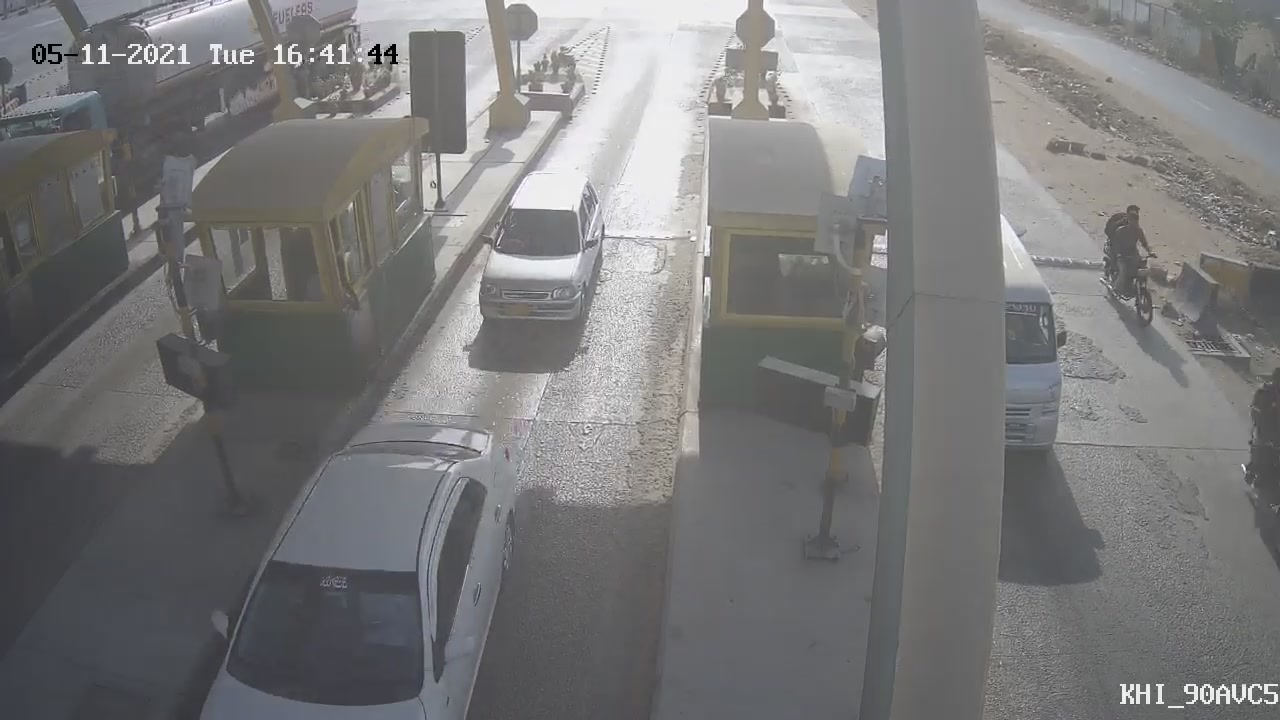F1: (461, 157, 621, 346)
